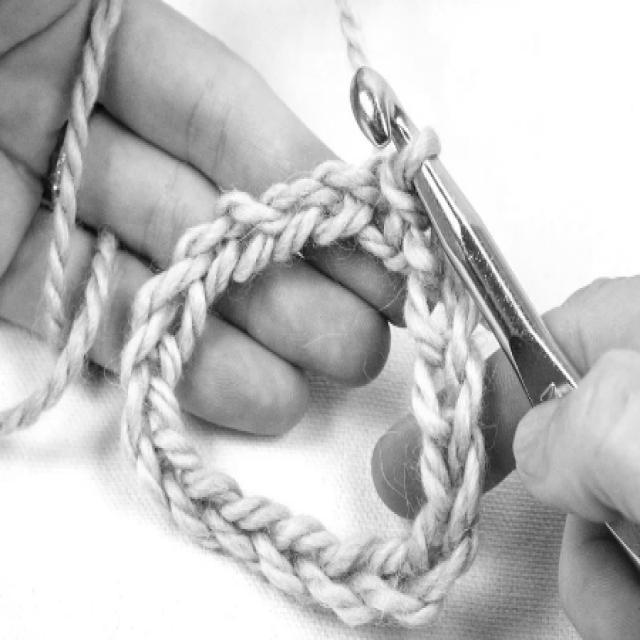ch: (130, 247, 215, 364), (412, 341, 483, 481), (406, 264, 467, 409), (349, 540, 441, 626), (294, 532, 382, 621), (395, 501, 473, 601), (161, 461, 242, 551), (421, 432, 481, 553), (253, 516, 338, 599), (216, 191, 293, 279), (171, 222, 246, 304), (120, 298, 183, 394), (202, 496, 290, 563), (266, 181, 342, 257), (314, 164, 380, 248), (138, 427, 199, 515), (127, 363, 182, 458)
